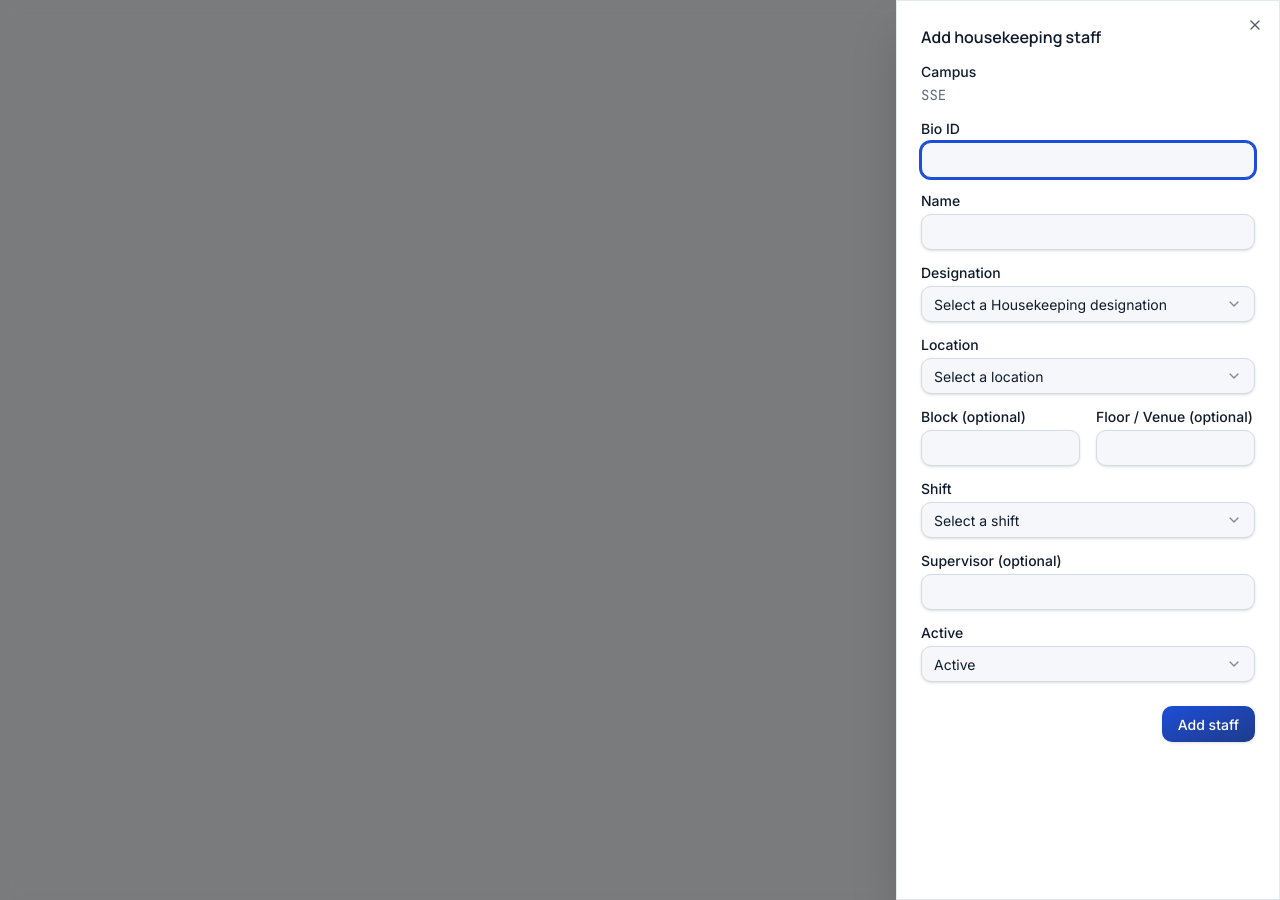
Test case: HousekeepingStaffFormDrawer › blocks submit with an inline message when designation/location/shift are unset
Expected: the heading "Add housekeeping staff" is shown, x1=921 y1=26 x2=1101 y2=48
In the field labelled "Bio ID": {"x": 1088, "y": 160} x1=921 y1=142 x2=1255 y2=178, type "BIO-001"
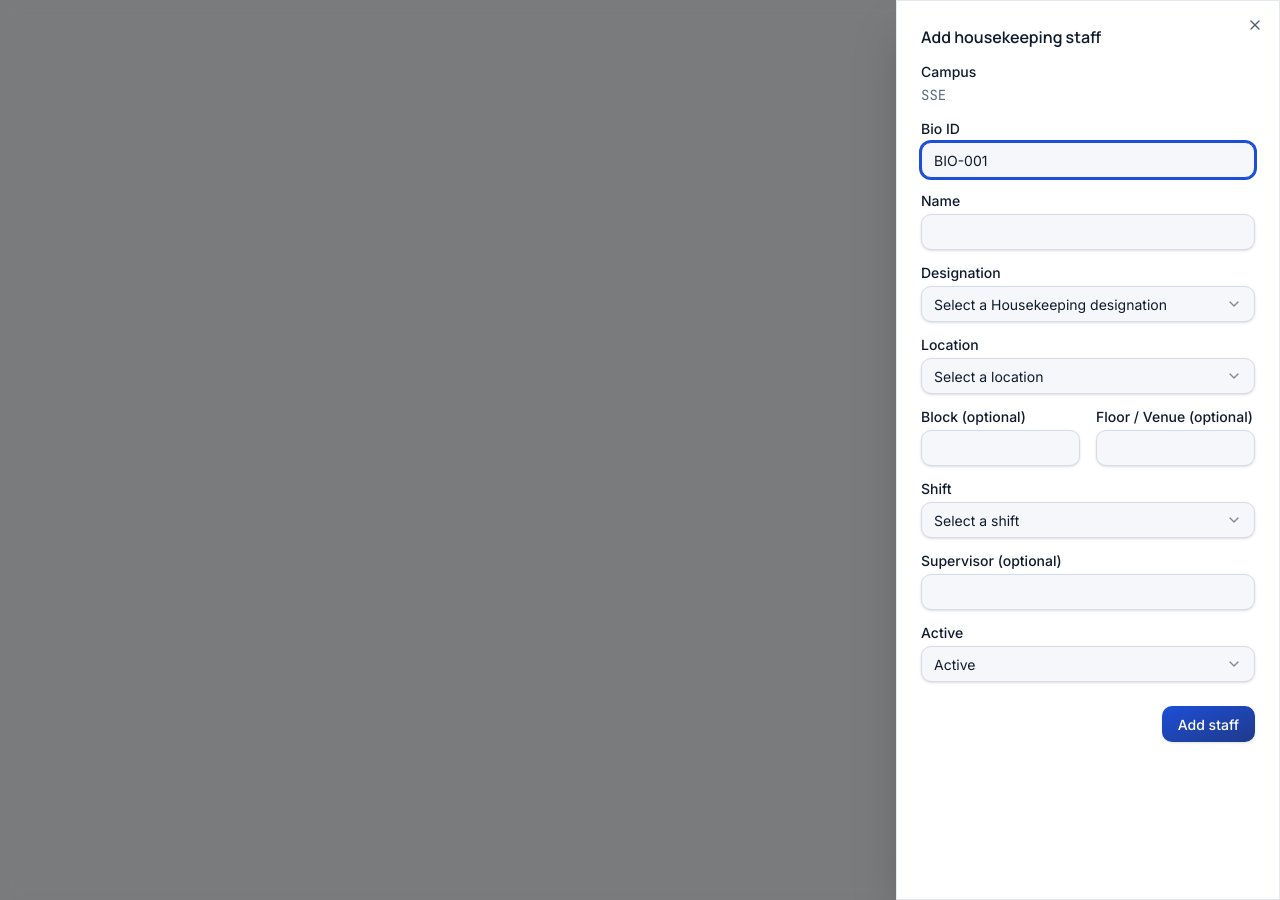
In the field labelled "Name": {"x": 1088, "y": 232} x1=921 y1=214 x2=1255 y2=250, type "Kamala Devi"
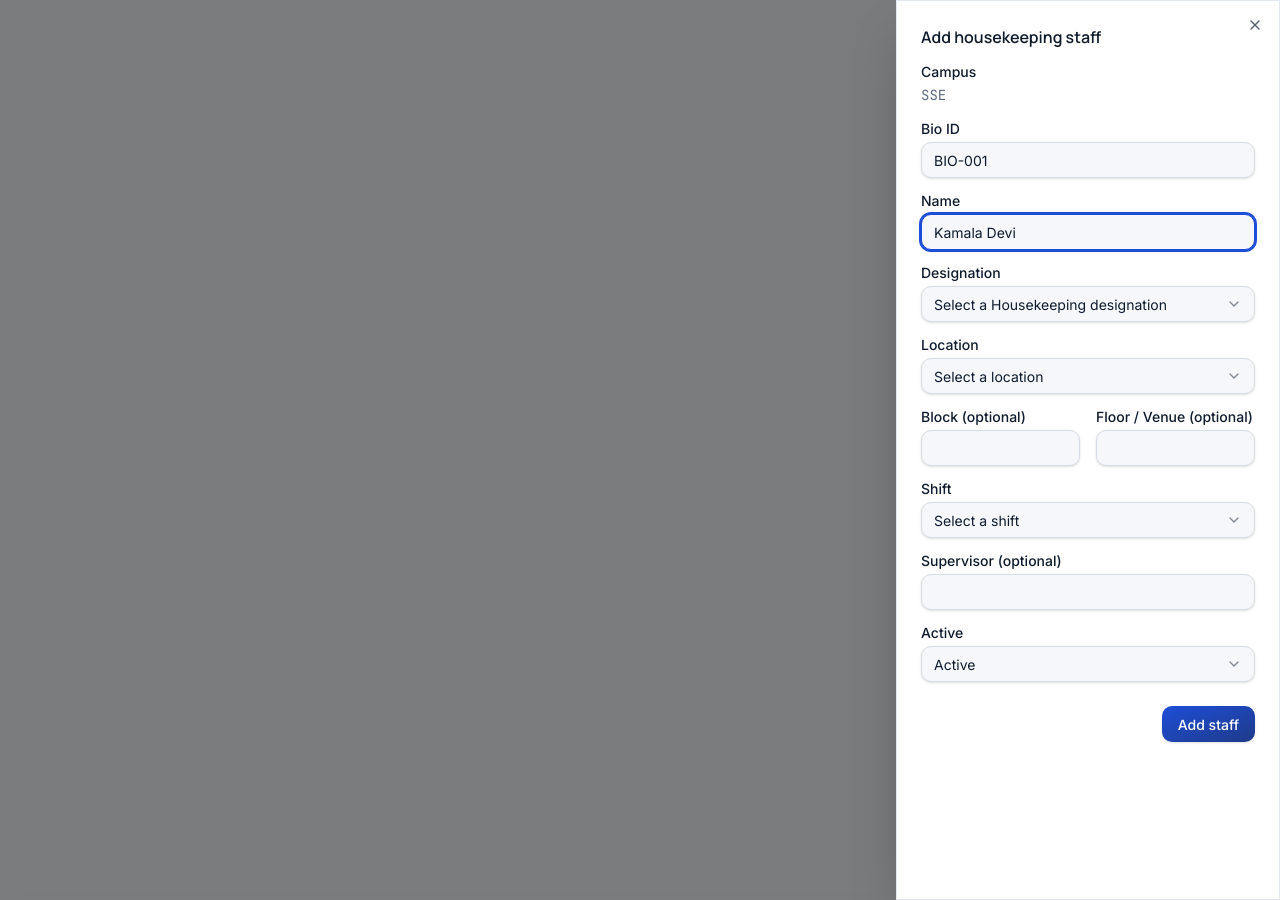
Click the button "Add staff": {"x": 1208, "y": 724} x1=1162 y1=706 x2=1255 y2=742
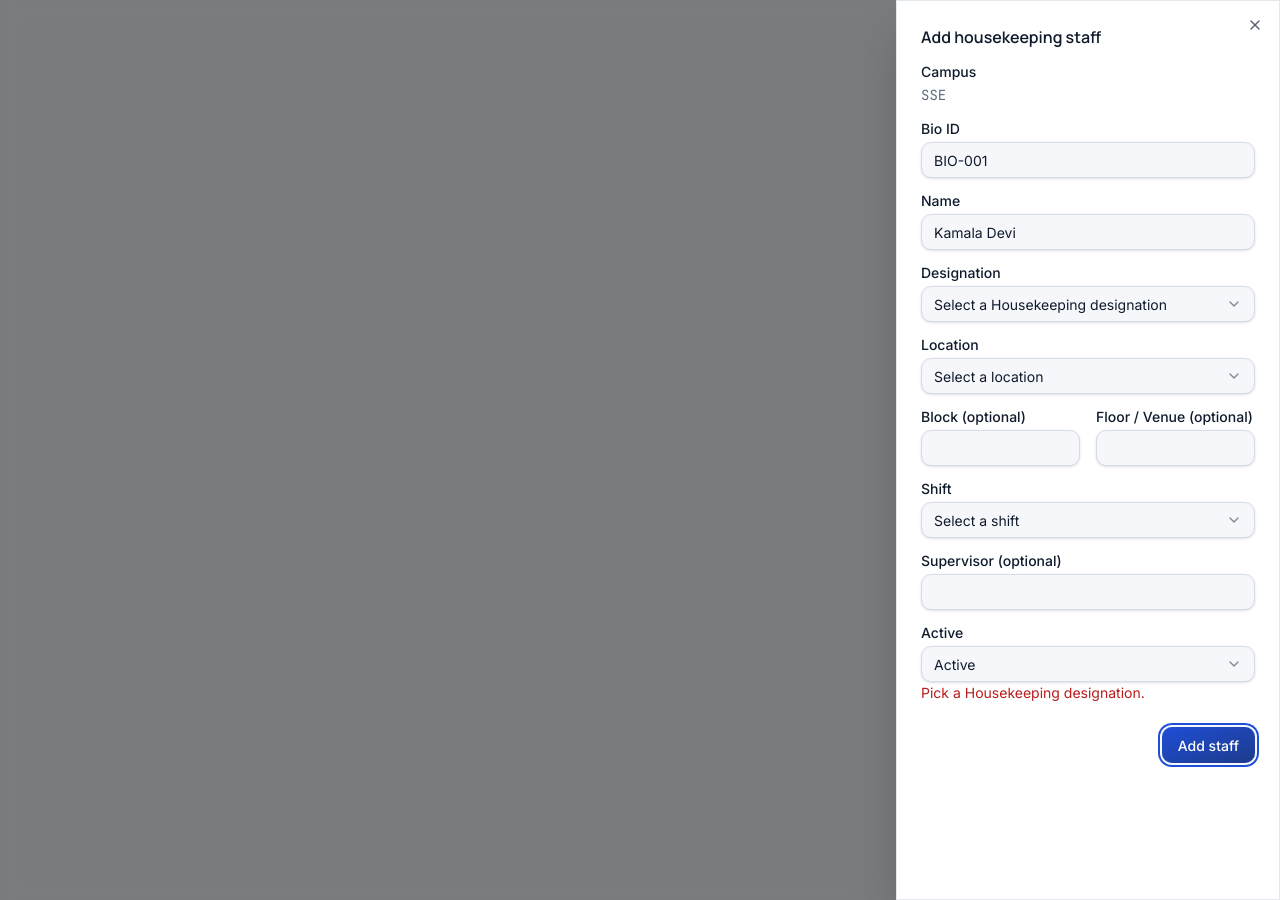
Result: the text "Pick a Housekeeping designation." is shown at x1=921 y1=684 x2=1145 y2=701
